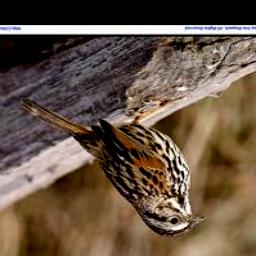Sparrow: (19, 94, 207, 239)
